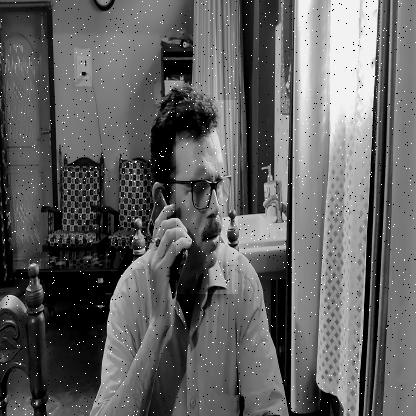Distracted: (176, 100, 238, 294)
